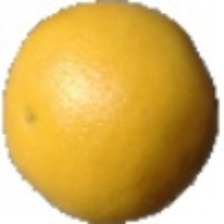grapes: (32, 29, 187, 168)
